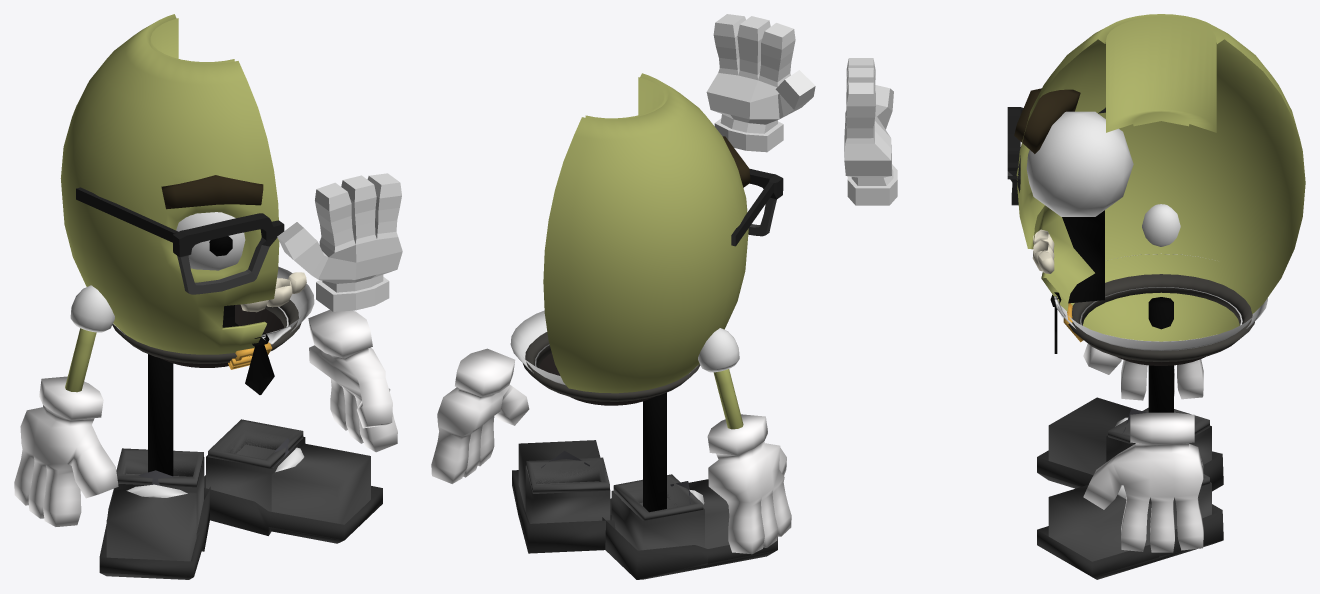
File: olive.glb
3 renders of one model, left to right at view 1: azimuth 30°, elevation 25°; view 2: azimuth 150°, elevation 25°; view 3: azimuth 270°, elevation 25°, orthographic. The views are drawn at different scales.
Visible parts, largest first — view 1: Sphere, Cube.008, Cube.006, Cube.020, Cube.009, Cube, Cube.005, Cube.014, Cube.004, Cube.011, Icosphere, Sphere.004 (+6 smaller); view 2: Sphere, Cube.008, Cube.020, Cube.009, Cube.006, Cube.005, Cube.014, Sphere.004, Cube.011, Cube, Sphere.003, Sphere.005 (+2 smaller); view 3: Sphere, Cube.008, Icosphere, Cube.006, Cube.020, Cube.009, Sphere.004, Cube.004, Sphere.005, Cube.005, Sphere.003, Cube (+1 smaller).
Part boxes in pixels (bbox=[...]): Sphere: bbox=[60, 14, 279, 354]; Cube.008: bbox=[14, 310, 397, 526]; Cube.006: bbox=[204, 436, 382, 543]; Cube.020: bbox=[277, 173, 402, 311]; Cube.009: bbox=[99, 457, 210, 579]; Cube: bbox=[76, 187, 284, 294]; Cube.005: bbox=[148, 354, 173, 476]; Cube.014: bbox=[208, 419, 303, 468]; Cube.004: bbox=[161, 175, 263, 209]; Cube.011: bbox=[116, 448, 203, 487]; Icosphere: bbox=[176, 212, 245, 270]; Sphere.004: bbox=[112, 300, 301, 363]; Sphere: bbox=[543, 73, 748, 393]; Cube.008: bbox=[431, 348, 791, 554]; Cube.020: bbox=[706, 14, 815, 152]; Cube.009: bbox=[602, 479, 777, 579]; Cube.006: bbox=[512, 440, 615, 553]; Cube.005: bbox=[643, 392, 666, 512]; Cube.014: bbox=[526, 457, 609, 493]; Sphere.004: bbox=[523, 332, 700, 401]; Cube.011: bbox=[613, 474, 703, 520]; Cube: bbox=[731, 168, 783, 246]; Sphere.003: bbox=[698, 328, 739, 372]; Sphere.005: bbox=[510, 310, 699, 385]; Sphere: bbox=[1016, 14, 1305, 341]; Cube.008: bbox=[1083, 343, 1203, 552]; Icosphere: bbox=[1026, 111, 1133, 216]; Cube.006: bbox=[1037, 482, 1223, 579]; Cube.020: bbox=[844, 58, 897, 205]; Cube.009: bbox=[1037, 397, 1223, 491]; Sphere.004: bbox=[1068, 274, 1254, 361]; Cube.004: bbox=[1014, 88, 1080, 153]; Sphere.005: bbox=[1054, 253, 1267, 350]; Cube.005: bbox=[1148, 297, 1173, 412]; Sphere.003: bbox=[1142, 204, 1180, 246]; Cube: bbox=[1007, 107, 1105, 205].
Size of the model in its own units: 2.71 by 3.66 by 3.2.
